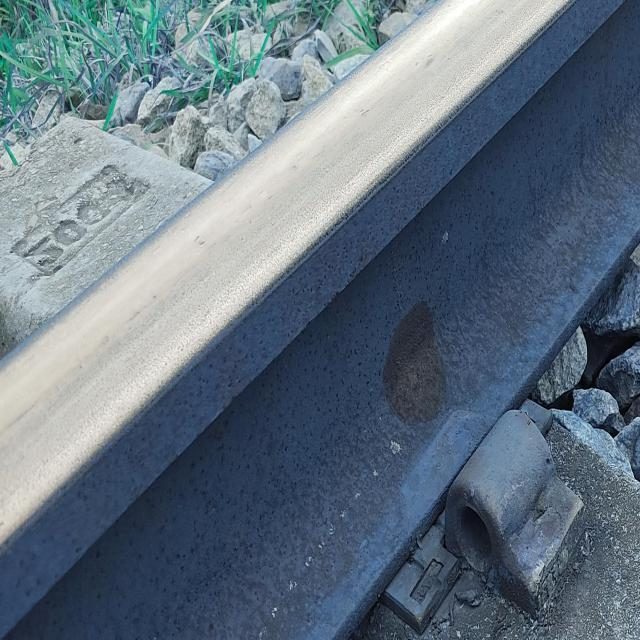Missing Fastener: (435, 396, 597, 620)
